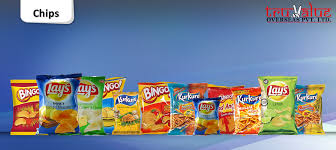kurkure: (175, 91, 200, 102), (239, 90, 259, 103), (114, 95, 138, 105)
plastic: (9, 81, 321, 137)
